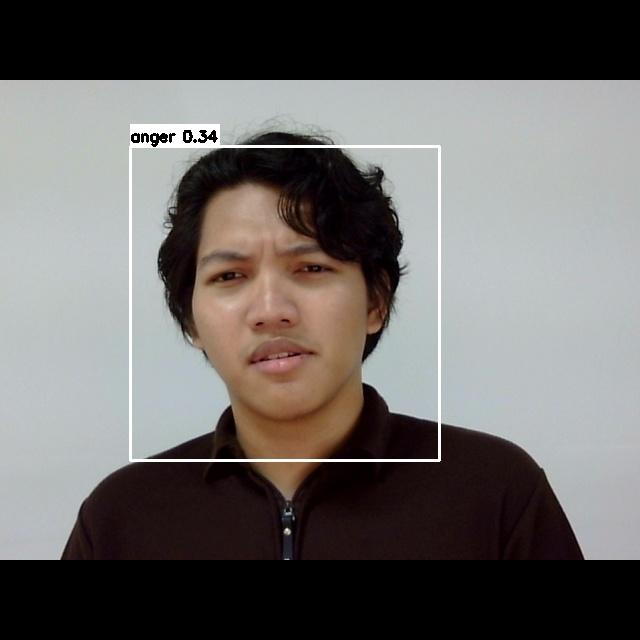Fear: (185, 224, 359, 388)
